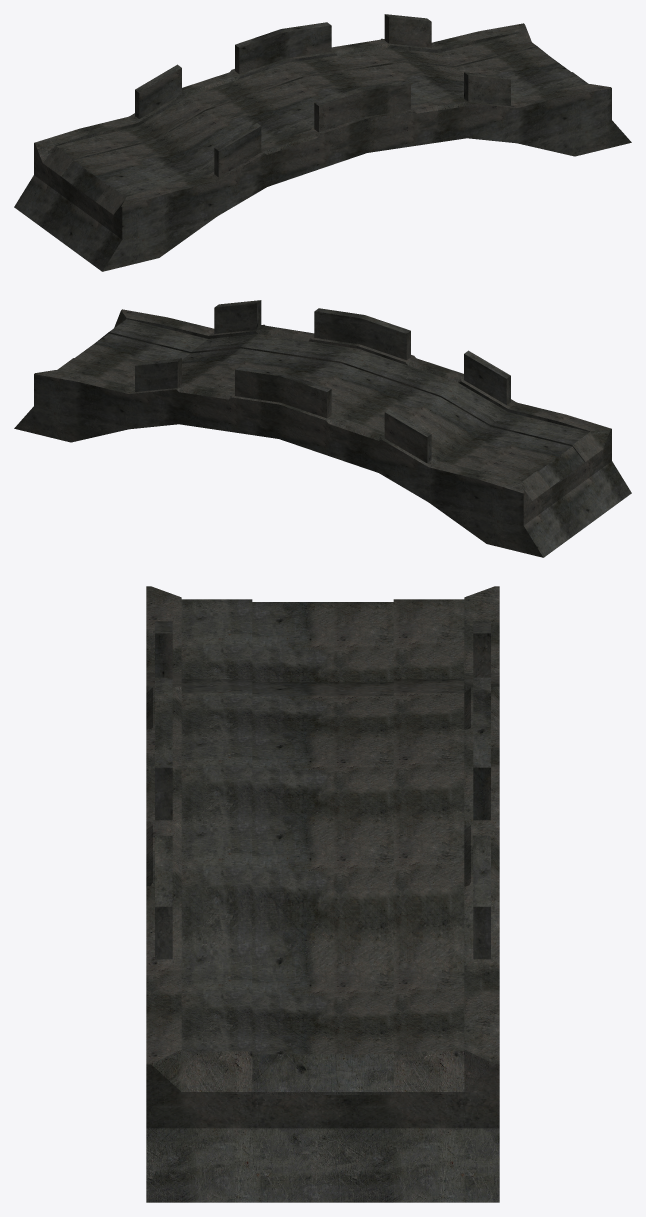
File: bridge.obj
The picture shows the model from 3 angles, top to bottom: view 1: azimuth 30°, elevation 25°; view 2: azimuth 150°, elevation 25°; view 3: azimuth 270°, elevation 25°; orthographic projection. The views are drawn at different scales.
Parts seen in each view (by area): view 1: Cube; view 2: Cube; view 3: Cube.
Part boxes in pixels (x1,y1,x2,y2): Cube: [14, 14, 631, 271]; Cube: [14, 300, 631, 557]; Cube: [146, 586, 499, 1202].
Bounding box in the file's own units: 25.04 × 5.21 × 7.24.
Materials: 1 (1 with a texture image).
